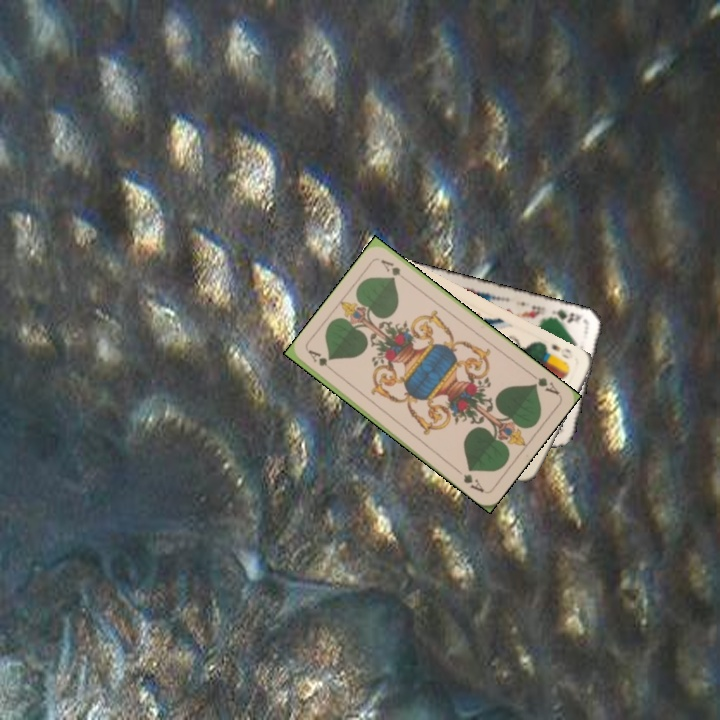EO: (547, 340, 575, 362)
GA: (305, 346, 339, 377), (526, 369, 562, 398)
GK: (547, 305, 583, 325)
